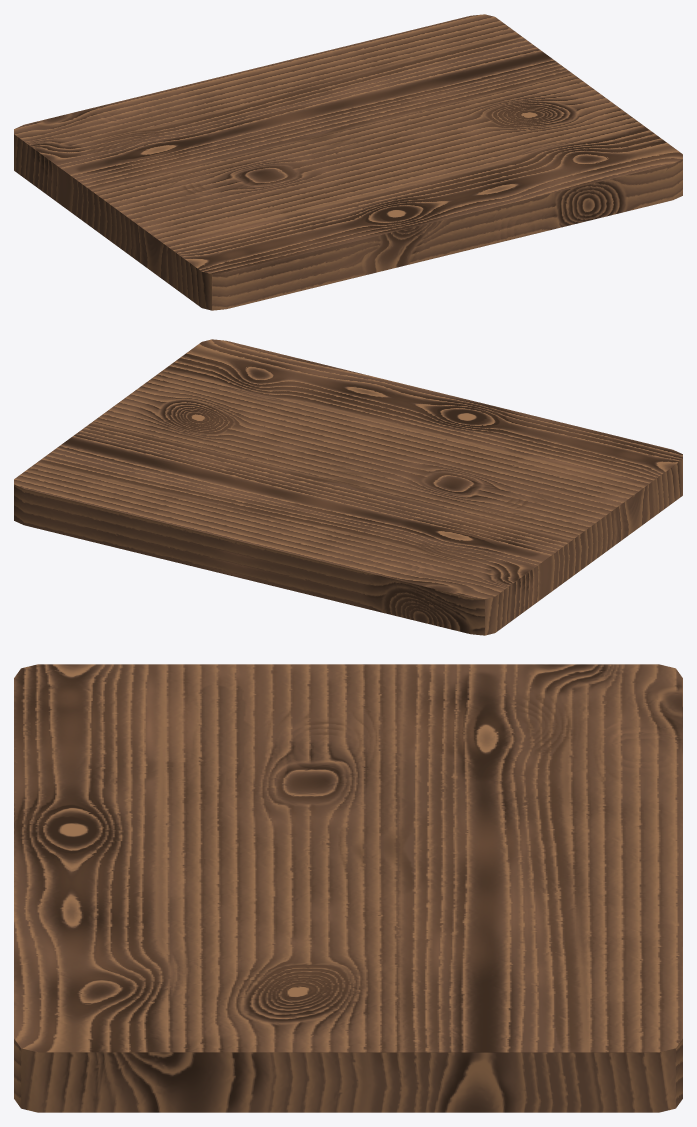
Rendered from ChoppingBoard_Complete.fbx.
3 views of the same model, one above another, from view 1: azimuth 30°, elevation 25°; view 2: azimuth 150°, elevation 25°; view 3: azimuth 270°, elevation 25° (orthographic). The views are drawn at different scales.
Parts seen in each view (by area): view 1: ChoppingBoard; view 2: ChoppingBoard; view 3: ChoppingBoard.
Part boxes in pixels (x1=…): ChoppingBoard: x1=14, y1=14, x2=682, y2=310; ChoppingBoard: x1=14, y1=339, x2=682, y2=635; ChoppingBoard: x1=14, y1=664, x2=682, y2=1112.
Bounding box in the file's own units: 1.68 × 0.1216 × 1.22.
